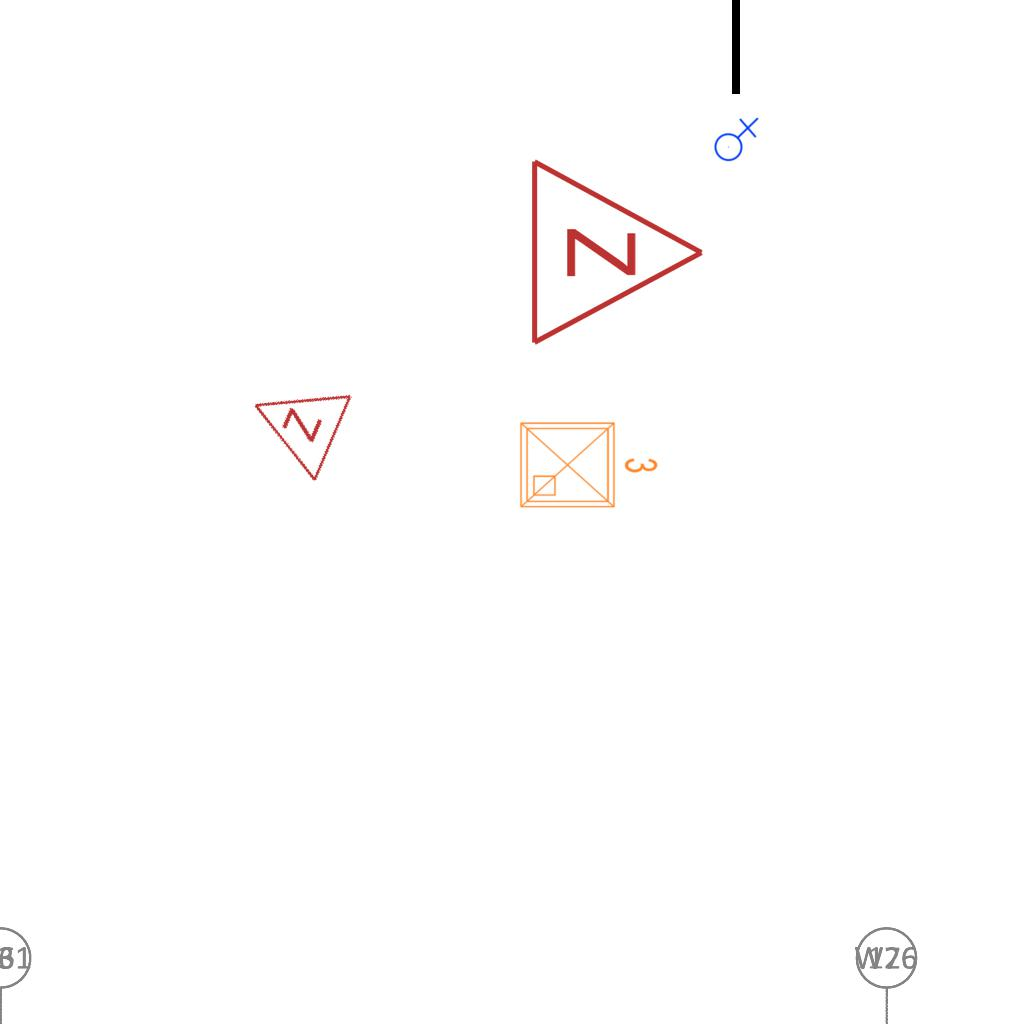Einbaudownlights_LED_Konferenzraeume: (513, 411, 663, 515)
Elektroanschluss_allgemein_230V_Geraeteanschlussdose_230V: (710, 115, 759, 162)
Zimmersignalleuchte: (517, 152, 717, 348), (228, 358, 360, 488)
